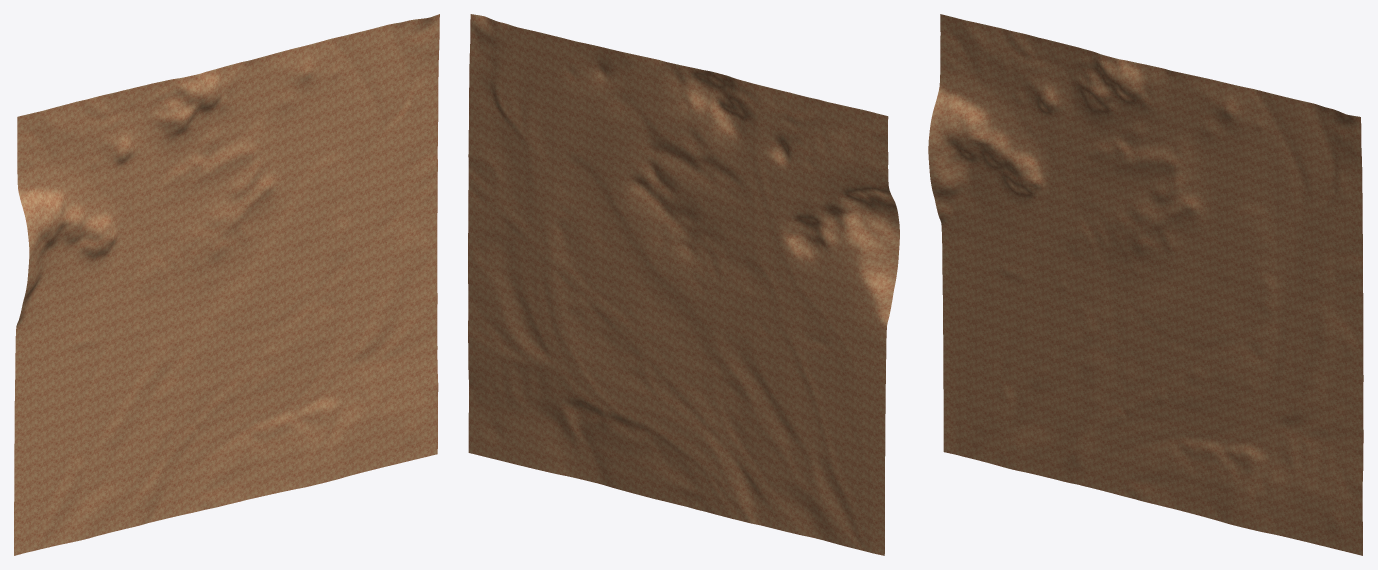
File: terrain.obj
3 views of the same model, side by side, from view 1: azimuth 30°, elevation 25°; view 2: azimuth 150°, elevation 25°; view 3: azimuth 330°, elevation 25° (orthographic).
Visible parts, largest first — view 1: terrain; view 2: terrain; view 3: terrain.
Part boxes in pixels (box(x1,y1,x2,y2)): terrain: box(14, 14, 439, 555); terrain: box(468, 14, 899, 555); terrain: box(928, 14, 1363, 555).
Size of the model in its own units: 200 by 200 by 12.79.
Materials: 1 (1 with a texture image).
